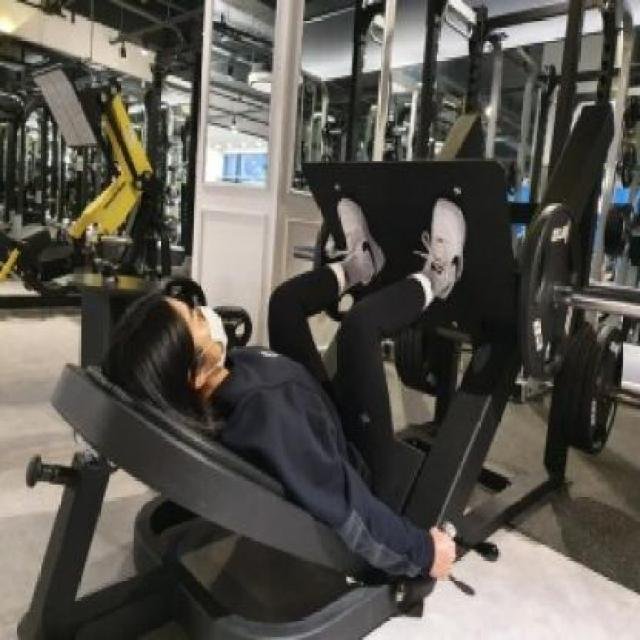leg press: (11, 132, 640, 640)
